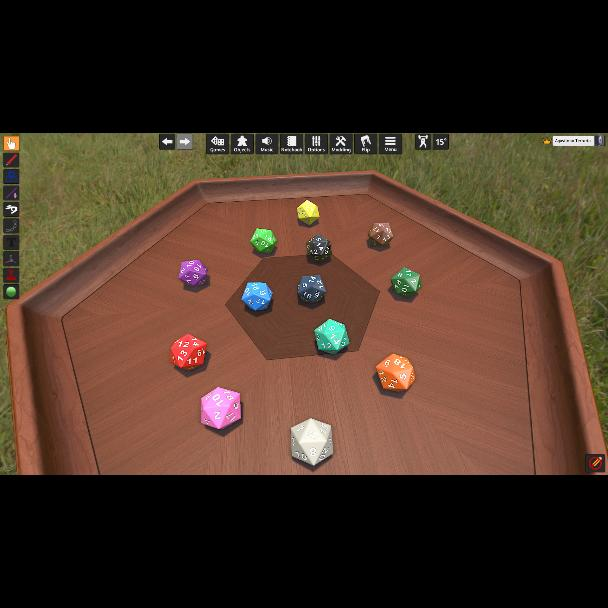d20: (290, 417, 332, 465), (200, 387, 240, 429), (376, 353, 414, 391), (170, 332, 208, 370), (314, 320, 348, 354), (241, 282, 273, 312), (393, 269, 421, 299), (296, 276, 326, 304), (179, 259, 209, 287), (305, 235, 331, 262), (250, 228, 276, 254), (368, 223, 392, 247), (297, 200, 319, 226)
